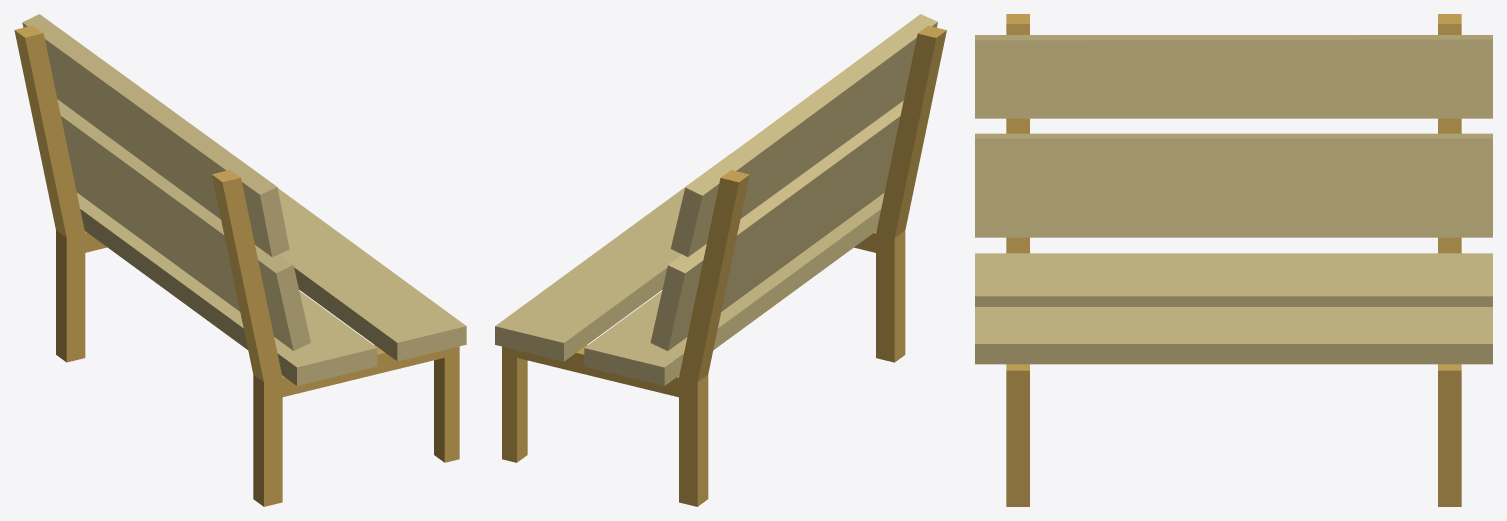
Rendered from GardenChair.fbx.
3 views of the same model, side by side, from view 1: azimuth 30°, elevation 25°; view 2: azimuth 150°, elevation 25°; view 3: azimuth 270°, elevation 25° (orthographic). The views are drawn at different scales.
Visible parts, largest first — view 1: Cube.004, Cube, Cube.008, Cube.001, Cube.007, Cube.003; view 2: Cube.004, Cube, Cube.003, Cube.001, Cube.007, Cube.008; view 3: Cube.004, Cube, Cube.001, Cube.007, Cube.008, Cube.003.
Boxes of the visible parts, x1=… form: Cube.004: x1=57, y1=99, x2=310, y2=350; Cube: x1=22, y1=14, x2=289, y2=257; Cube.008: x1=211, y1=170, x2=459, y2=506; Cube.001: x1=277, y1=188, x2=466, y2=361; Cube.007: x1=77, y1=193, x2=377, y2=385; Cube.003: x1=14, y1=25, x2=107, y2=362; Cube.004: x1=650, y1=101, x2=903, y2=350; Cube: x1=670, y1=14, x2=937, y2=256; Cube.003: x1=502, y1=170, x2=749, y2=506; Cube.001: x1=495, y1=153, x2=731, y2=361; Cube.007: x1=584, y1=193, x2=884, y2=385; Cube.008: x1=854, y1=25, x2=946, y2=362; Cube.004: x1=975, y1=133, x2=1492, y2=237; Cube: x1=975, y1=35, x2=1492, y2=118; Cube.001: x1=975, y1=307, x2=1492, y2=364; Cube.007: x1=975, y1=253, x2=1492, y2=306; Cube.008: x1=1006, y1=14, x2=1029, y2=506; Cube.003: x1=1438, y1=14, x2=1461, y2=506.
Bounding box in the file's own units: 23.6 × 31.85 × 40.8.
